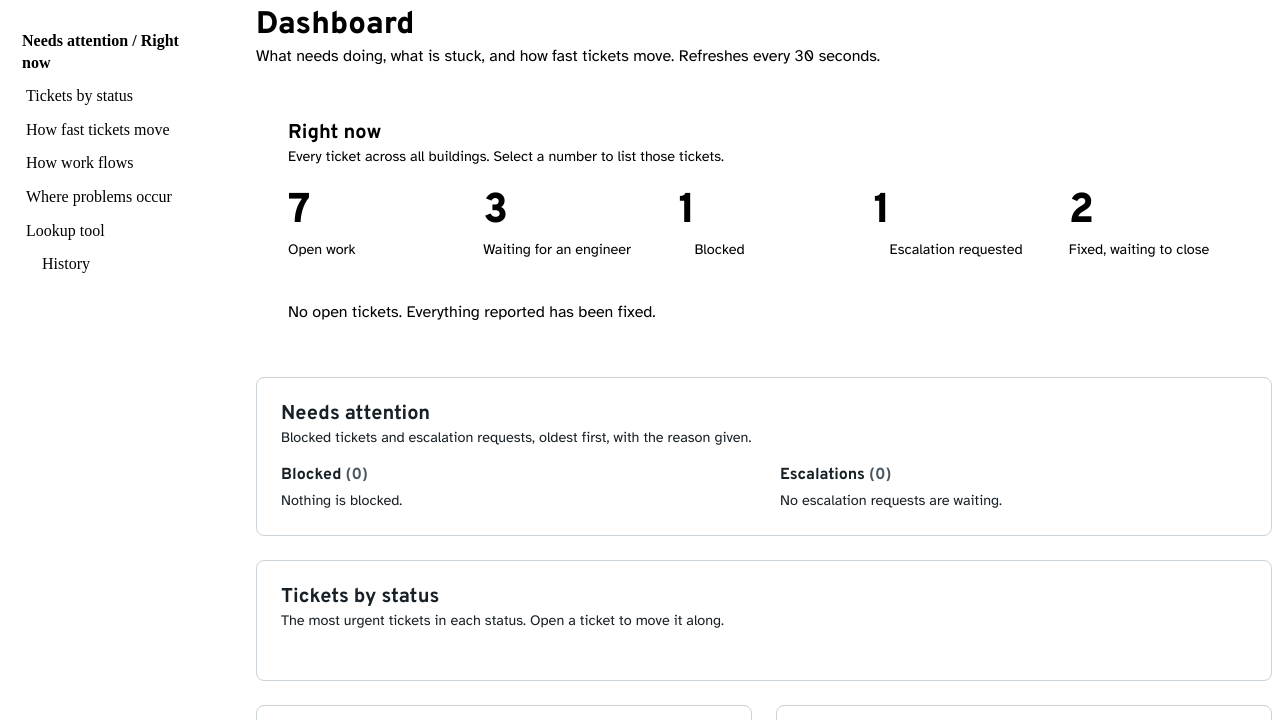
Test: Right now figures open the tickets behind them › lists the blocked tickets in a drawer, and gives focus back to the figure on Escape
This screenshot has width=1280, height=720.
Step 1. Click the button named "Blocked: 1 ticket. Show them" → click(687, 212), box x1=678 y1=191 x2=695 y2=233
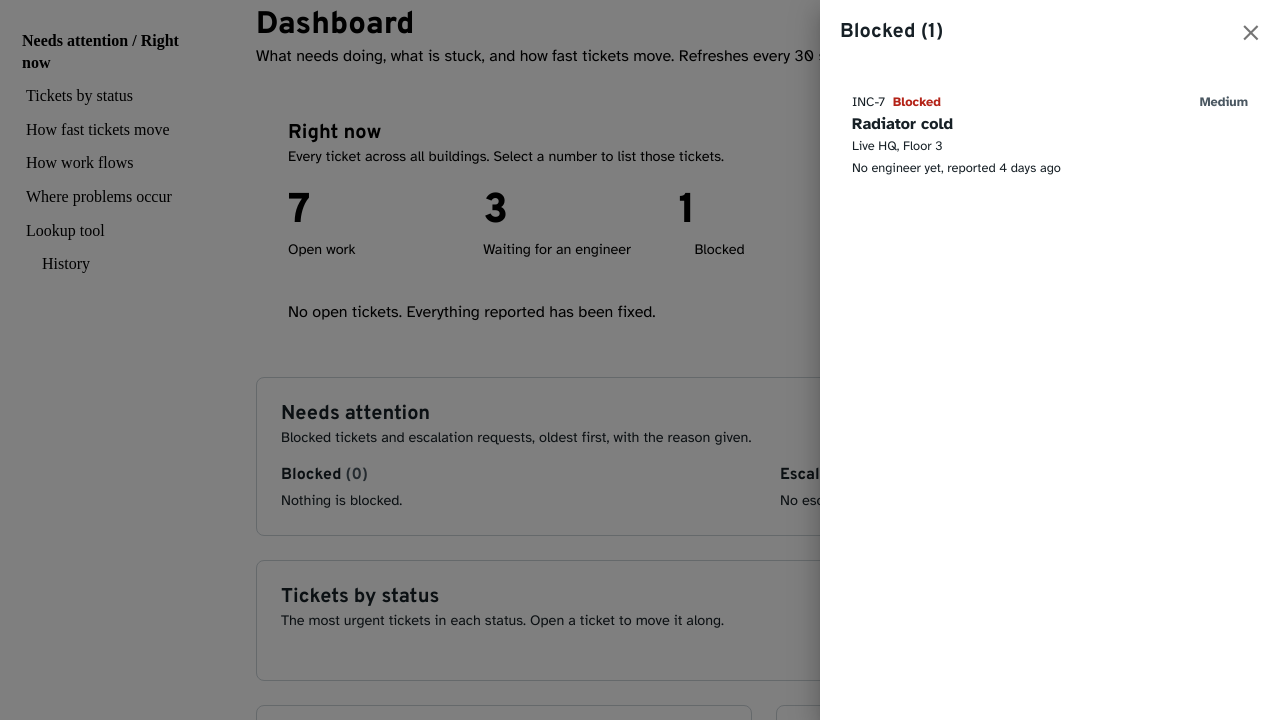
Expected: the link "Radiator cold" shows "Blocked", x1=840 y1=82 x2=1260 y2=190
Step 2. Press Escape
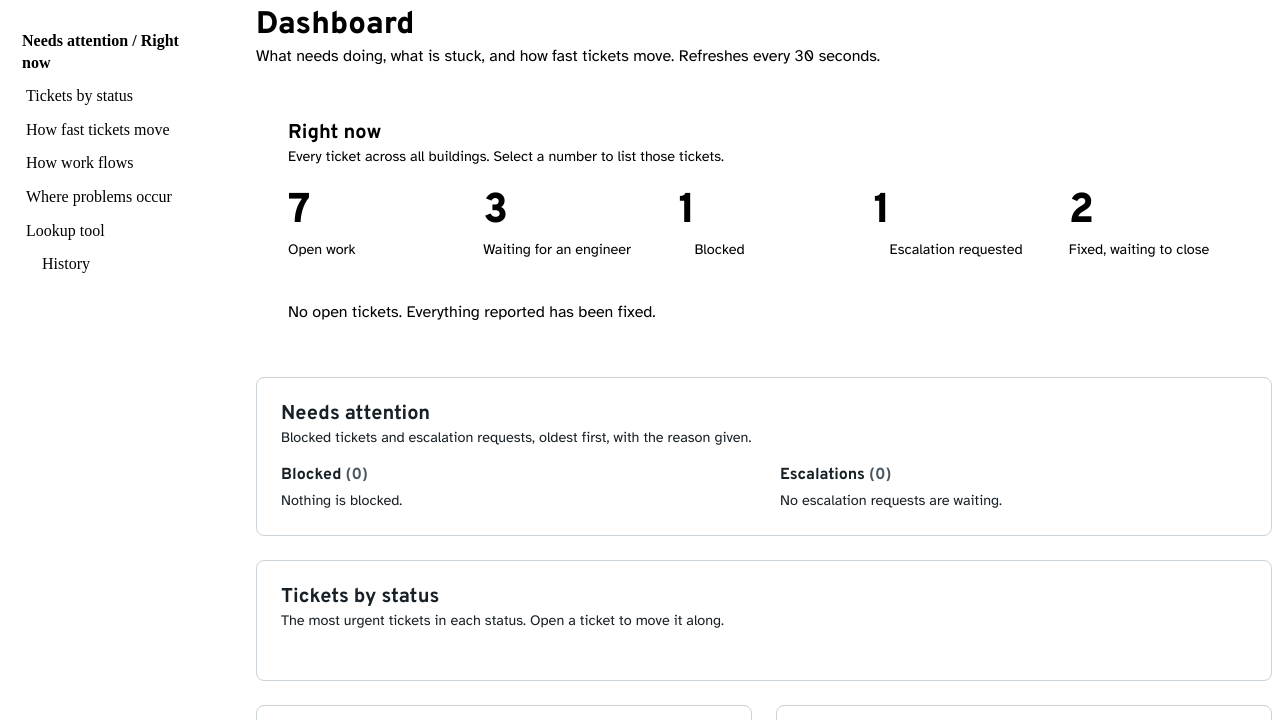
Expected: the dialog is gone
